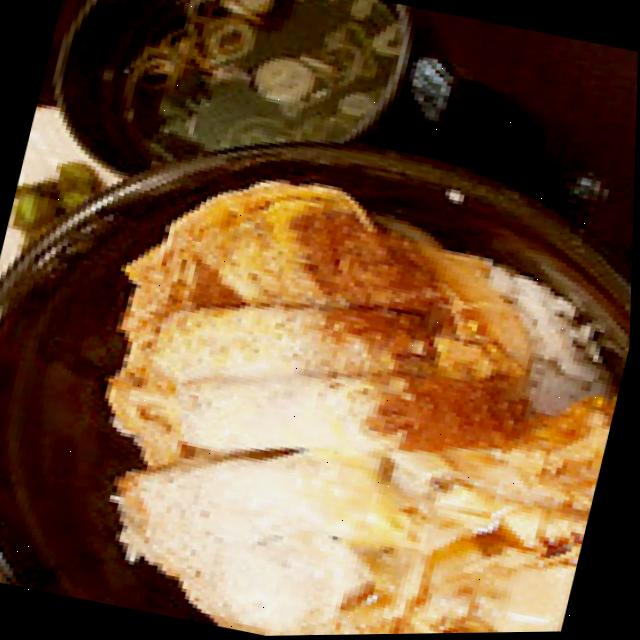汤锅炖物: (30, 0, 415, 235)
